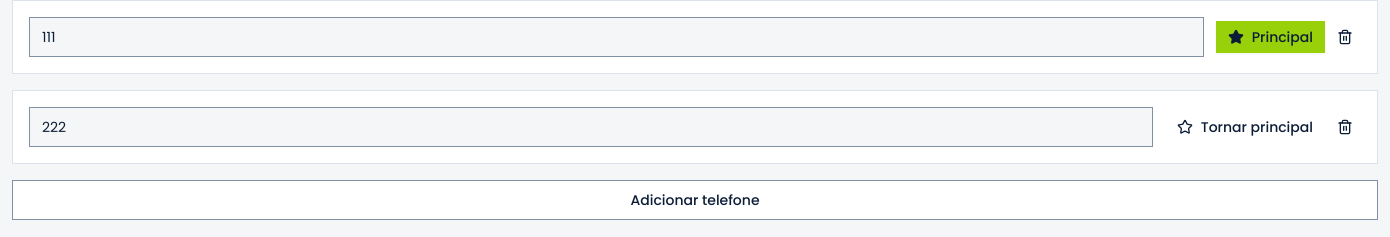
Test: RepeatableField › remover um item que não é o principal não muda quem tem o selo "Principal"
The image size is (1390, 237).
Click the button named "Remover item 2": (1345, 127) [1329,111,1361,143]
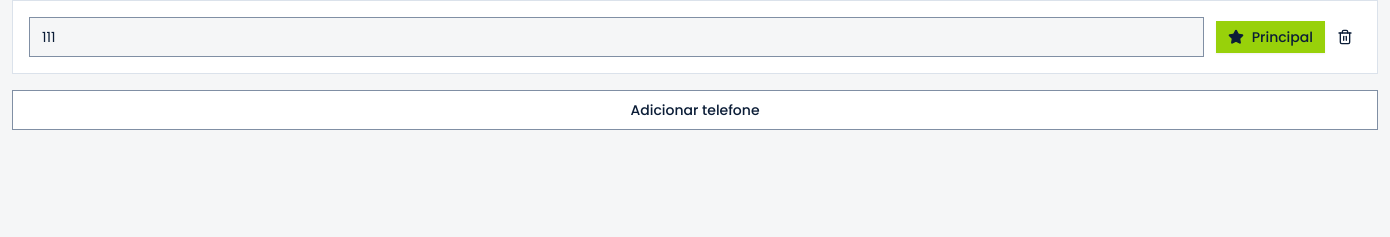
Check: the field named "Telefone 1" holds "111", box [42,18,1191,56]
Check: the number of fields is 1, box [42,18,1191,56]
